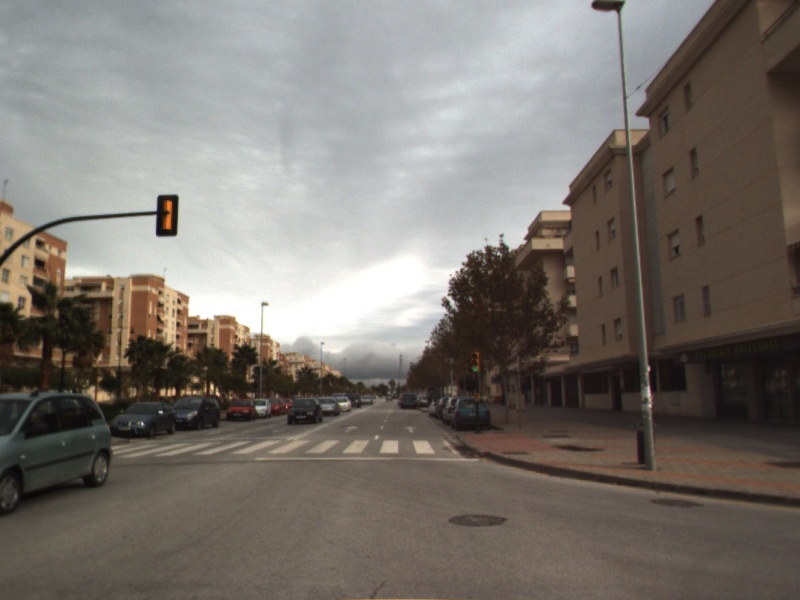STRAIGHT: (342, 424, 359, 434), (403, 424, 419, 434)
